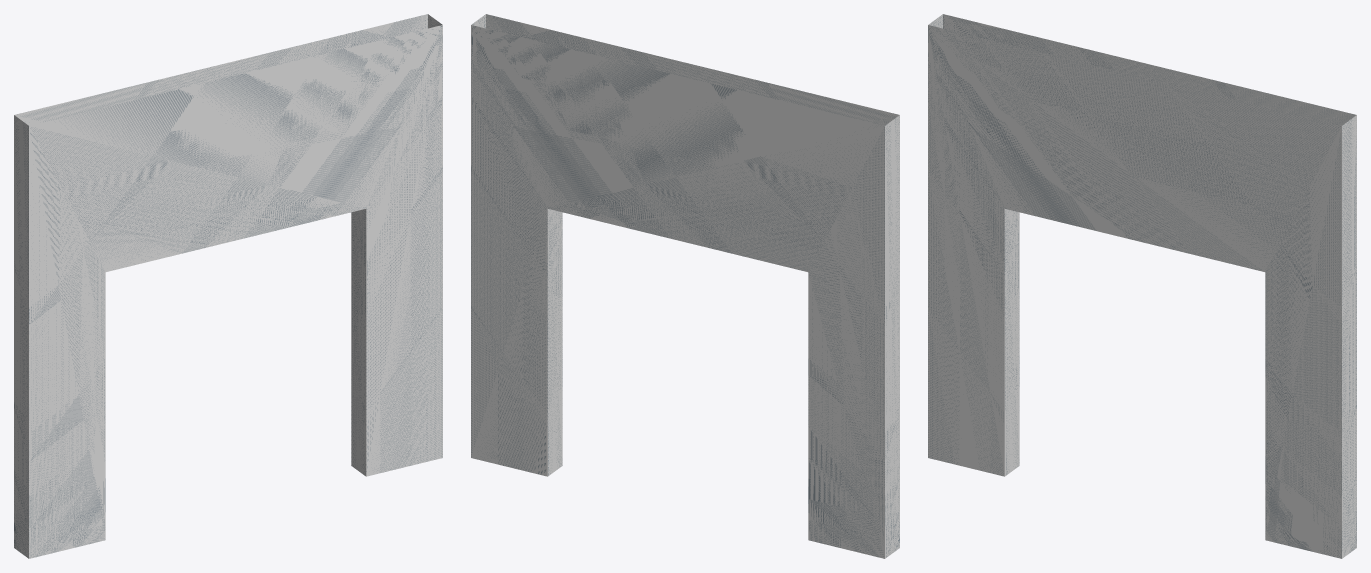
File: BlockWall_ds_[400x400x025]_252x247_double_doorway.dae
3 renders of one model, left to right at view 1: azimuth 30°, elevation 25°; view 2: azimuth 150°, elevation 25°; view 3: azimuth 330°, elevation 25°, orthographic.
Visible parts, largest first — view 1: group_0; view 2: group_0; view 3: group_0.
Boxes of the visible parts, x1,y1,x2,y2 form: group_0: (14, 14, 442, 558); group_0: (471, 14, 899, 558); group_0: (928, 14, 1356, 558).
Size of the model in its own units: 157 by 9.84 by 157.
